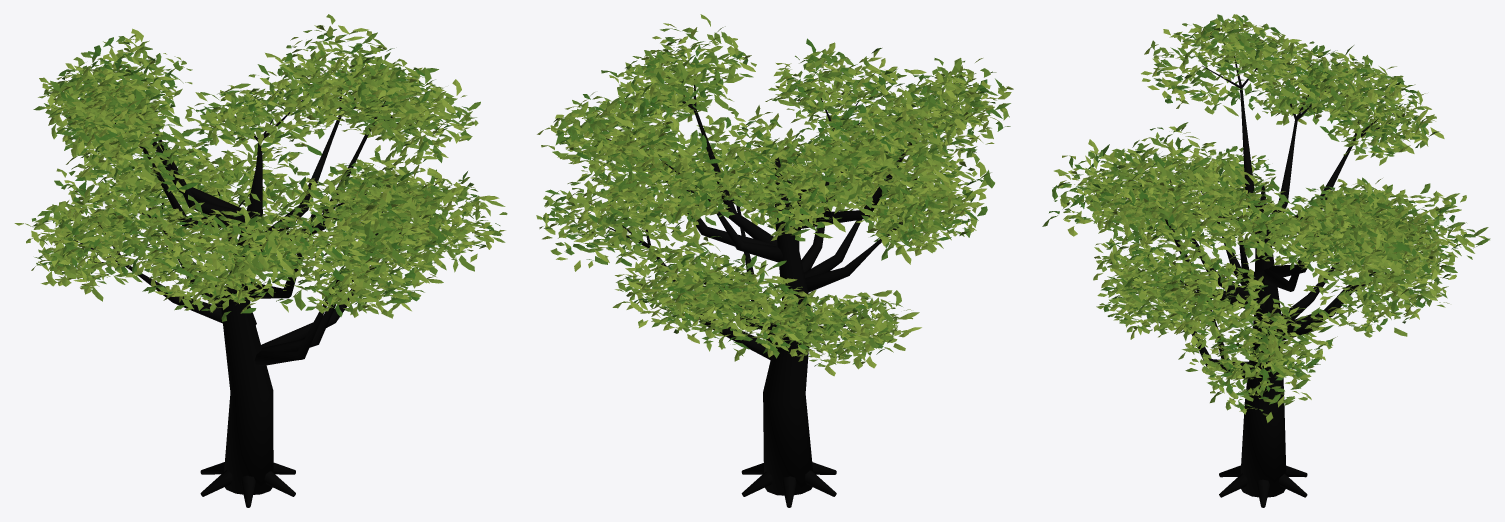
File: tree-0-lod.glb
3 views of the same model, side by side, from view 1: azimuth 30°, elevation 25°; view 2: azimuth 150°, elevation 25°; view 3: azimuth 270°, elevation 25° (orthographic). The views are drawn at different scales.
Parts seen in each view (by area): view 1: tree-0 export; view 2: tree-0 export; view 3: tree-0 export.
Boxes of the visible parts, x1,y1,x2,y2 form: tree-0 export: (14,14,507,507); tree-0 export: (536,14,1013,507); tree-0 export: (1042,14,1490,507).
Bounding box in the file's own units: 10.56 × 9.98 × 9.95.
